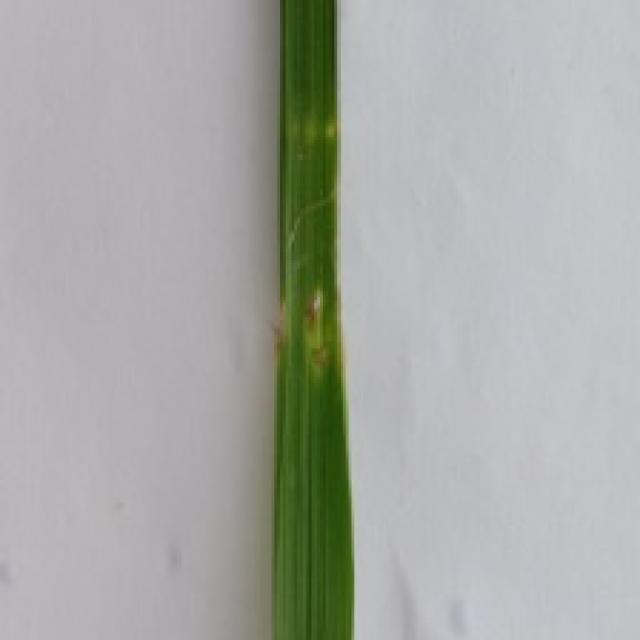Rice_Blast: (302, 286, 336, 375)
